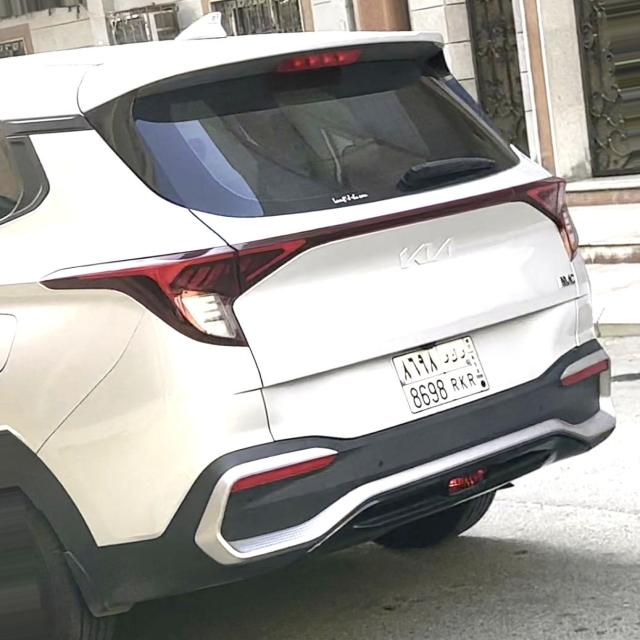Car-plate: (380, 327, 509, 423)
